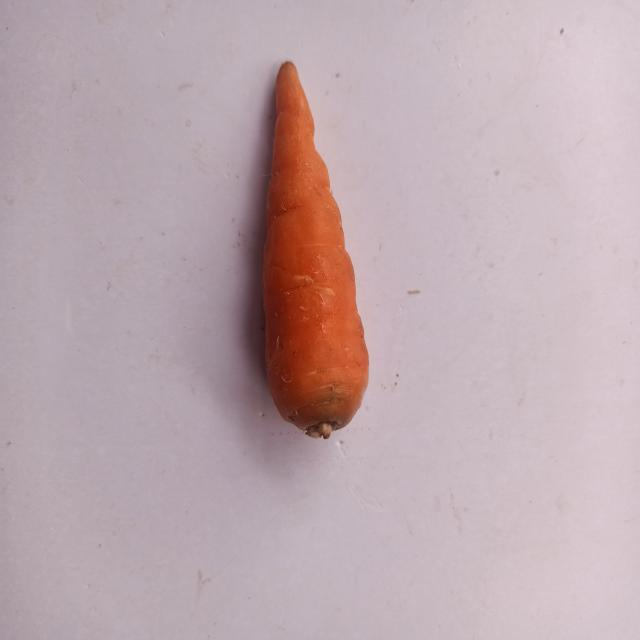Carrot: (229, 45, 395, 460)
